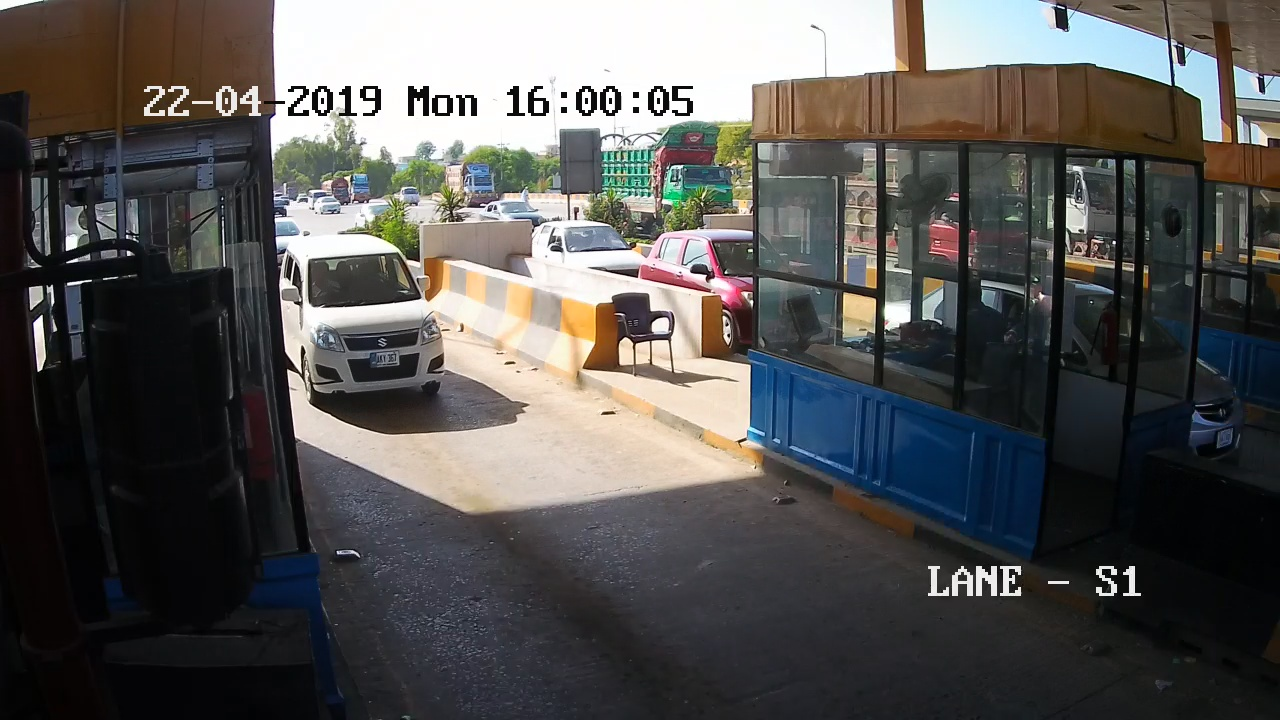Number Plate (Car): (369, 351, 402, 368)
